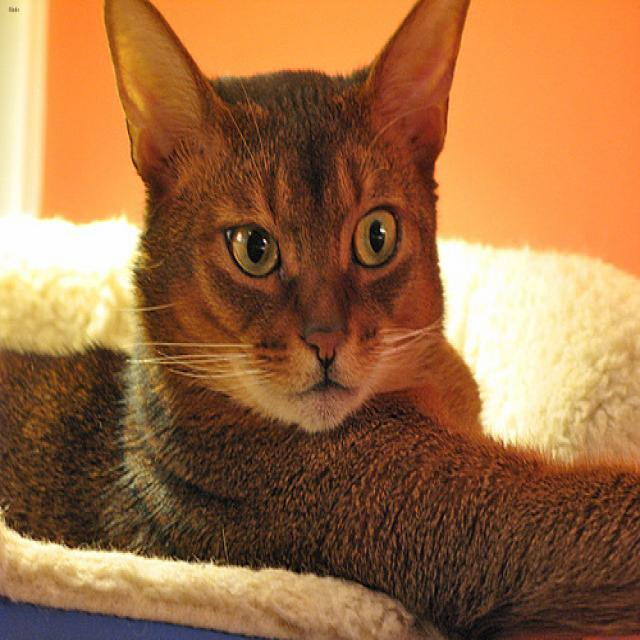Abyssinian: (102, 2, 452, 422)
